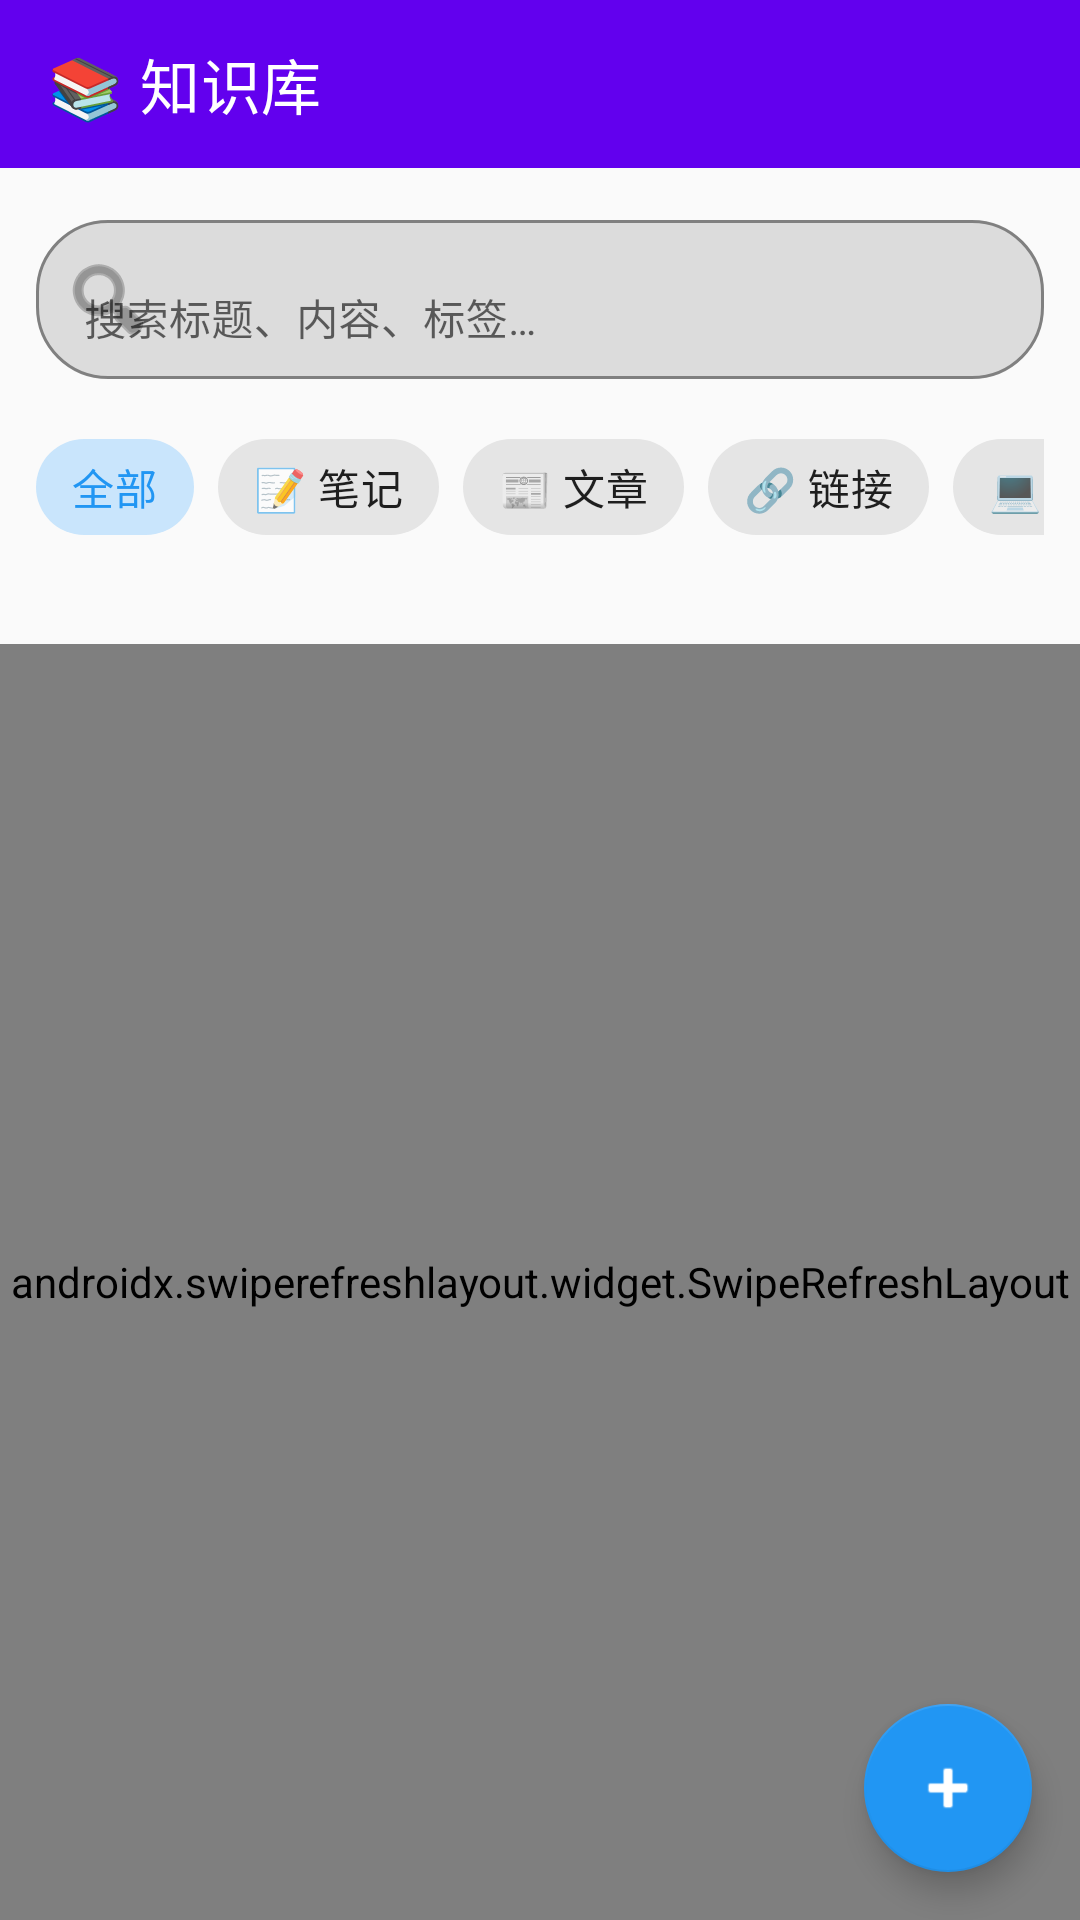

Named icons in this screenshot (1080w x 1920h) and their bounding boxes, box(x1, y1, x2, y2):
添加内容: box(864, 1704, 1032, 1872)
